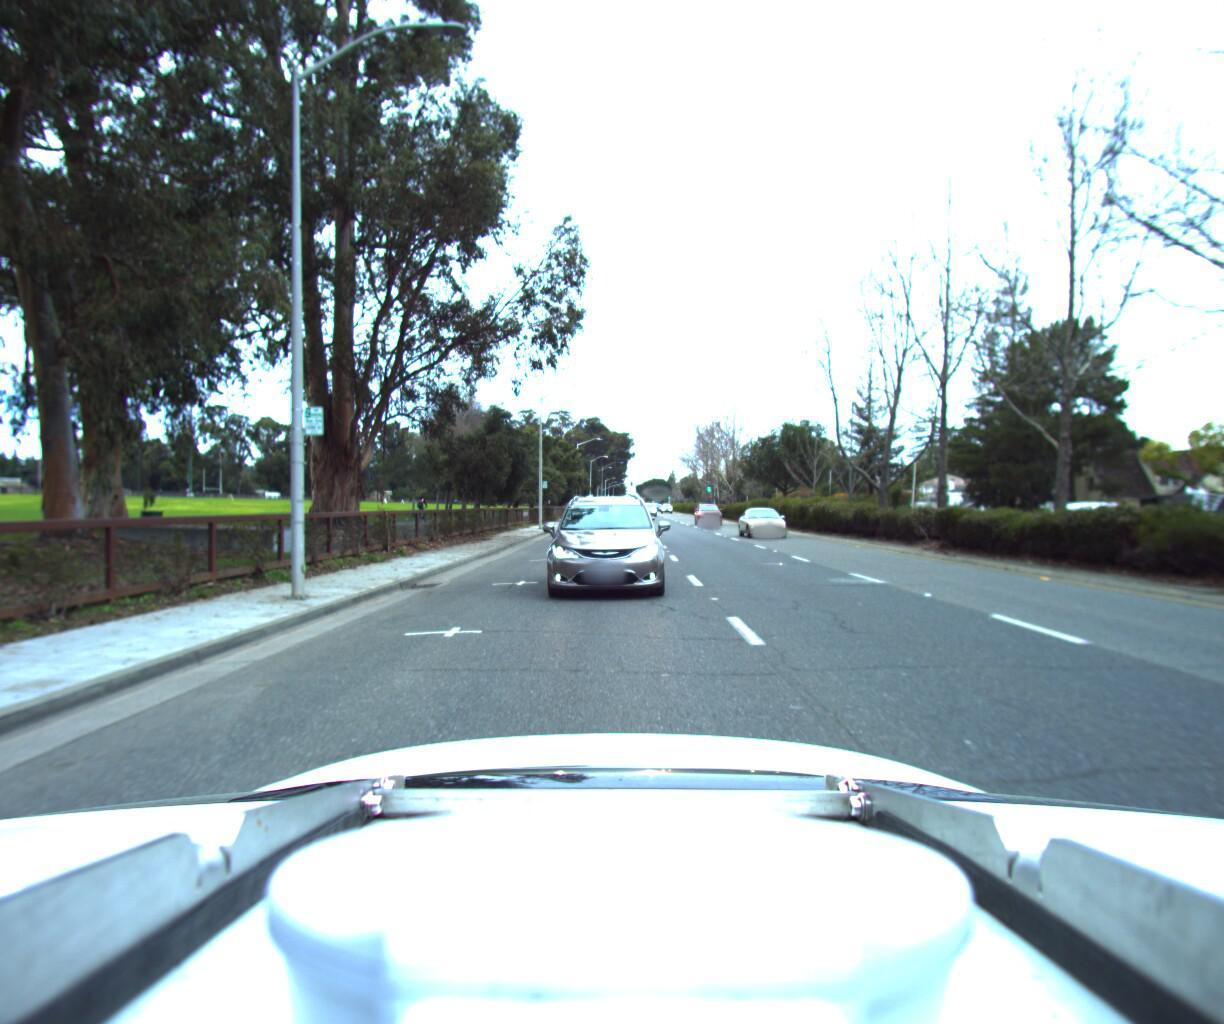bicycle: (408, 485, 427, 517)
car: (540, 484, 665, 597), (740, 500, 793, 534), (693, 494, 725, 517)
truck: (1085, 478, 1224, 543)
